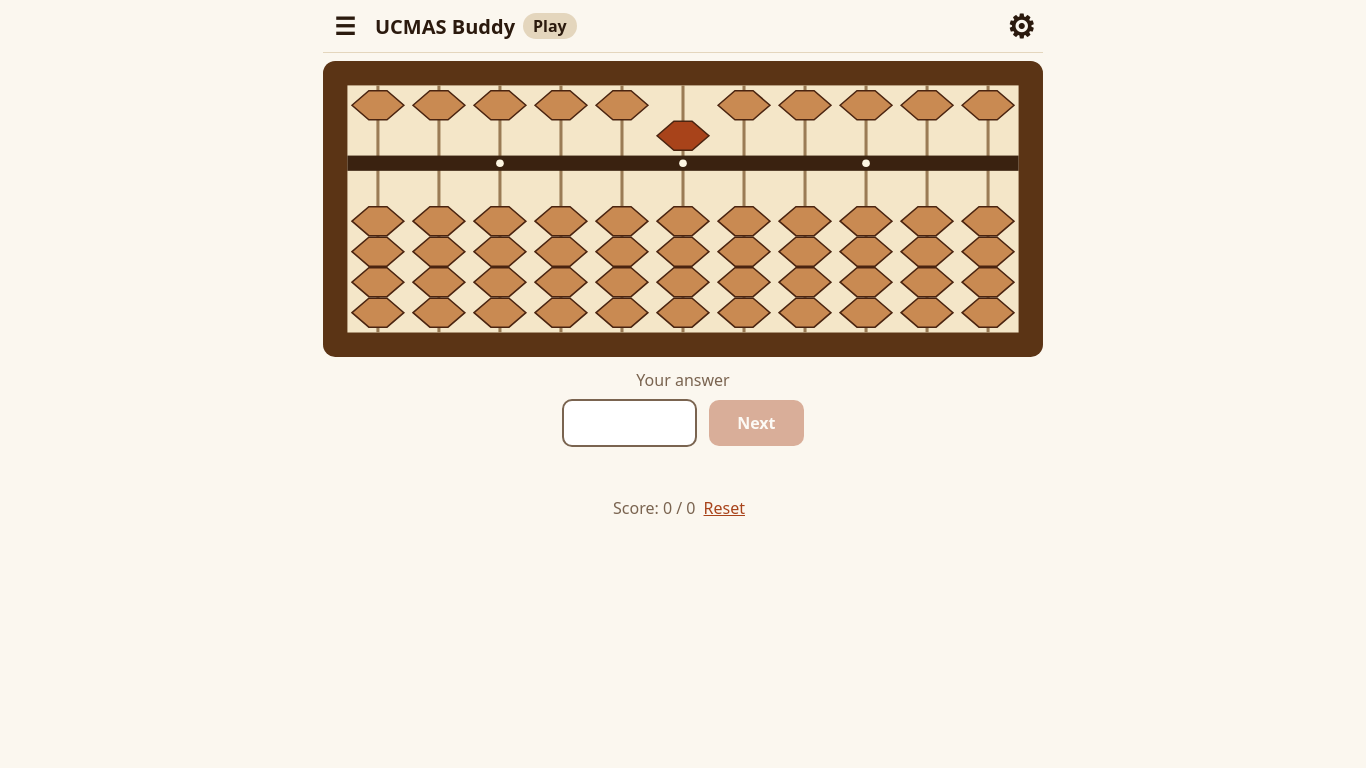
Test: <App> › navigation › lists both modes in the menu and marks the current one (AC1)
Click the button named "open menu": (345, 26) [323,4,367,48]
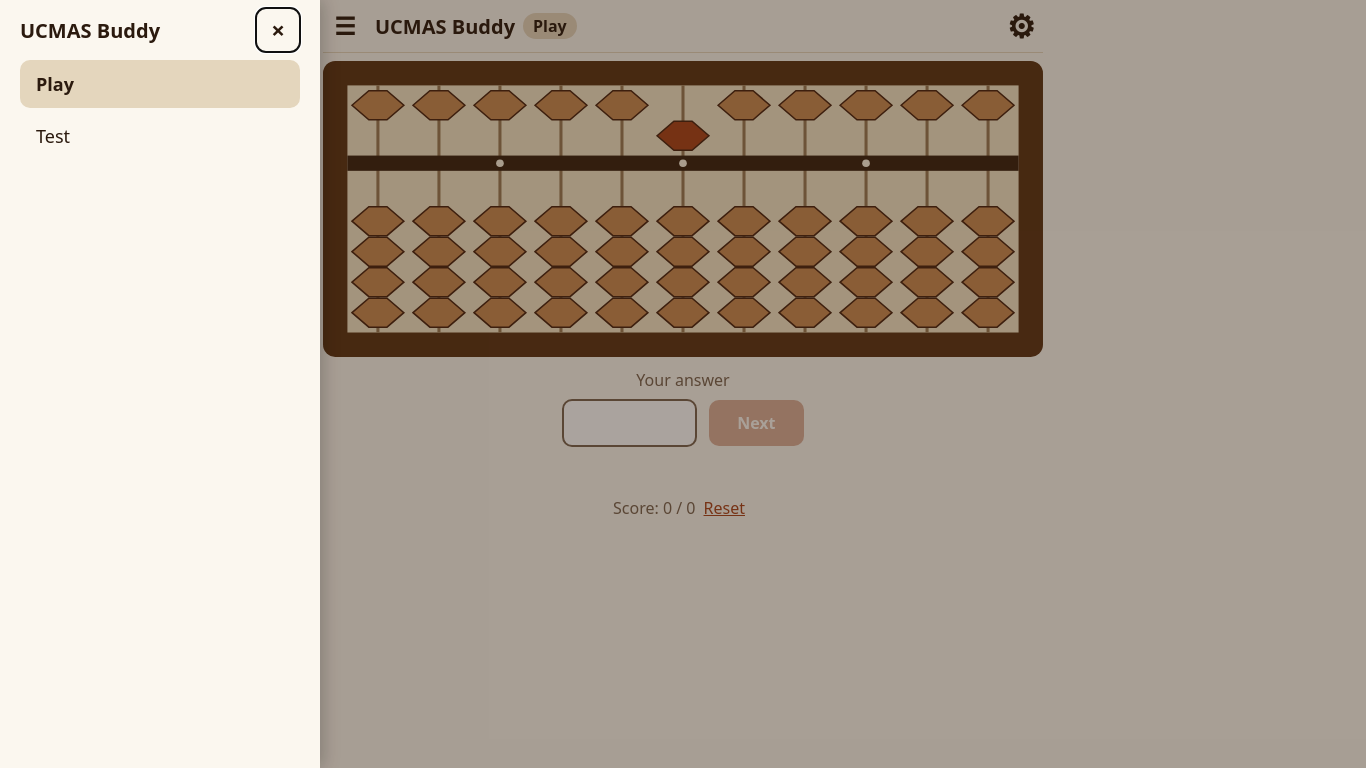
Result: the dialog "UCMAS Buddy × Play Test" is shown at [0,0,320,767]
